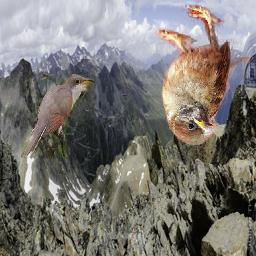Cuckoo: (22, 74, 95, 158)
Sparrow: (155, 5, 252, 145)
